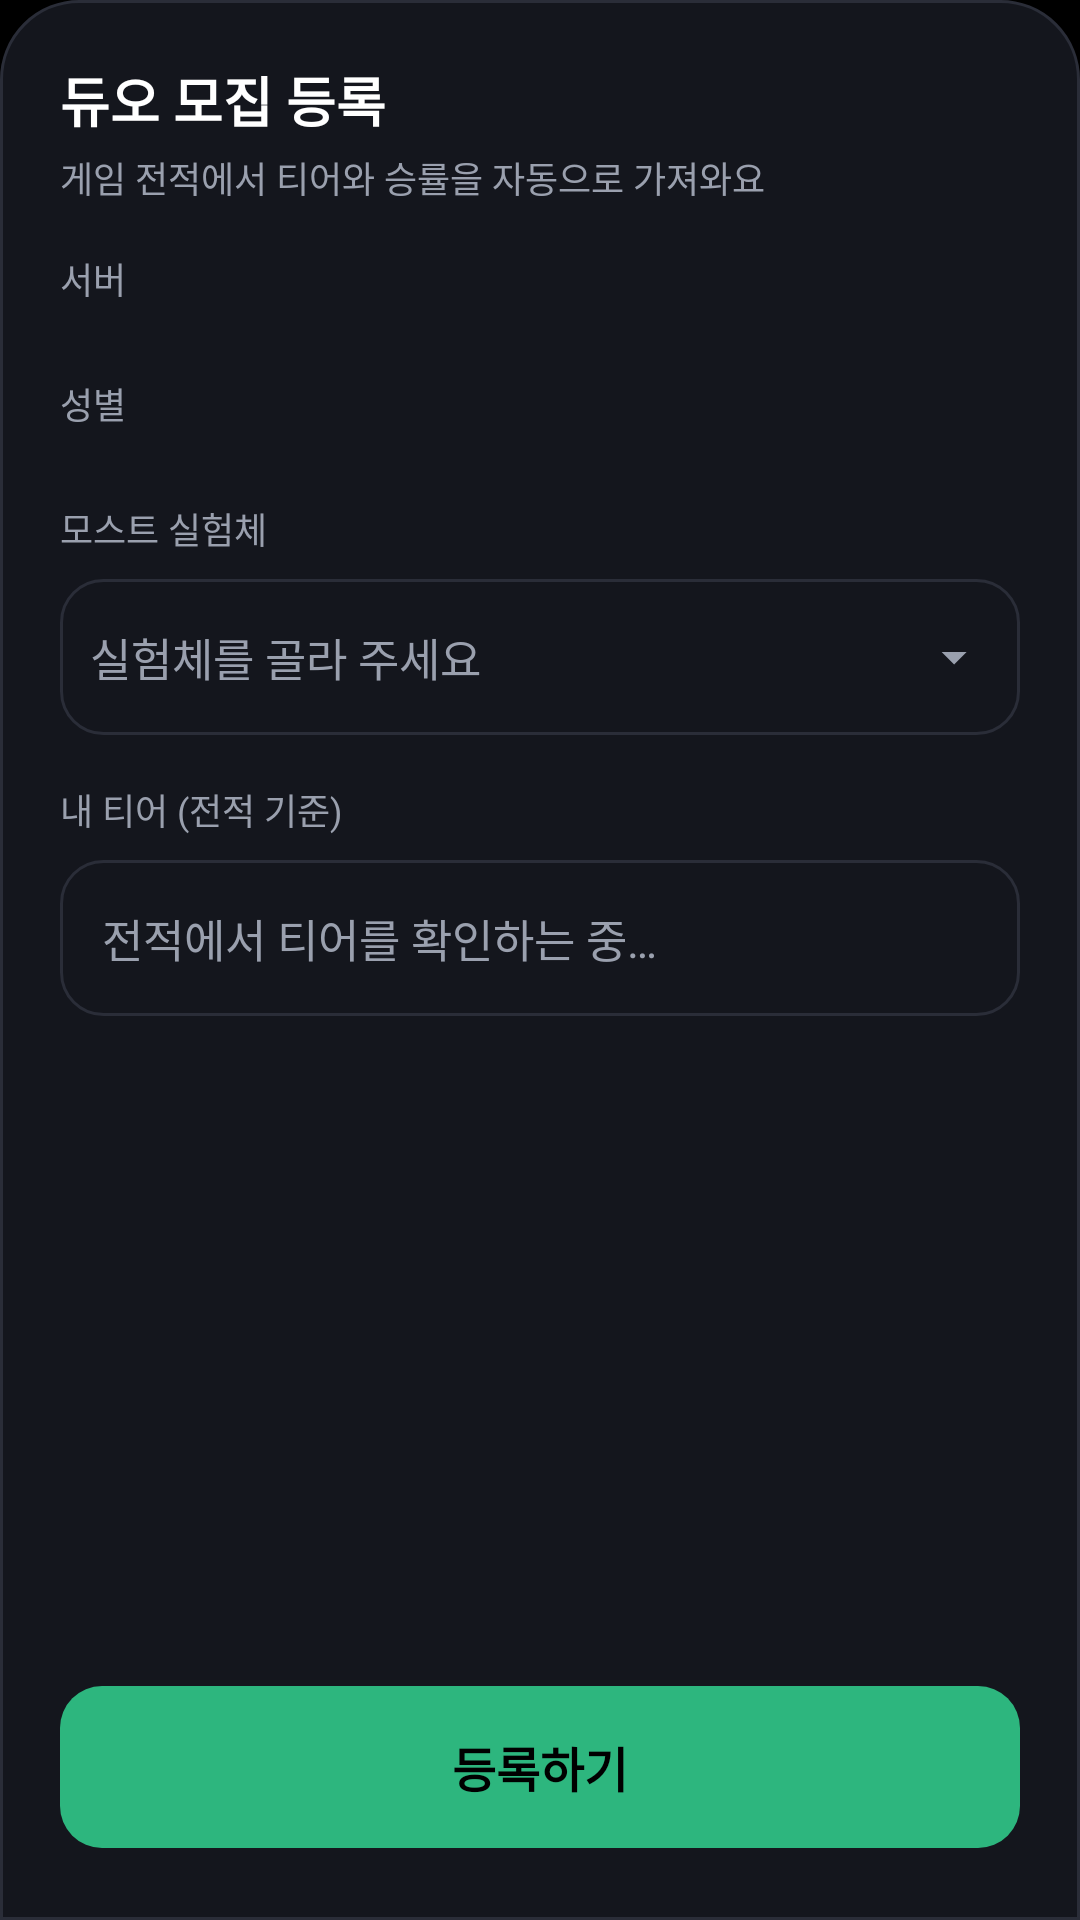

Named icons in this screenshot (1080px×1920px) and their centers, point (x, y):
dropdown arrow: point (954, 658)
